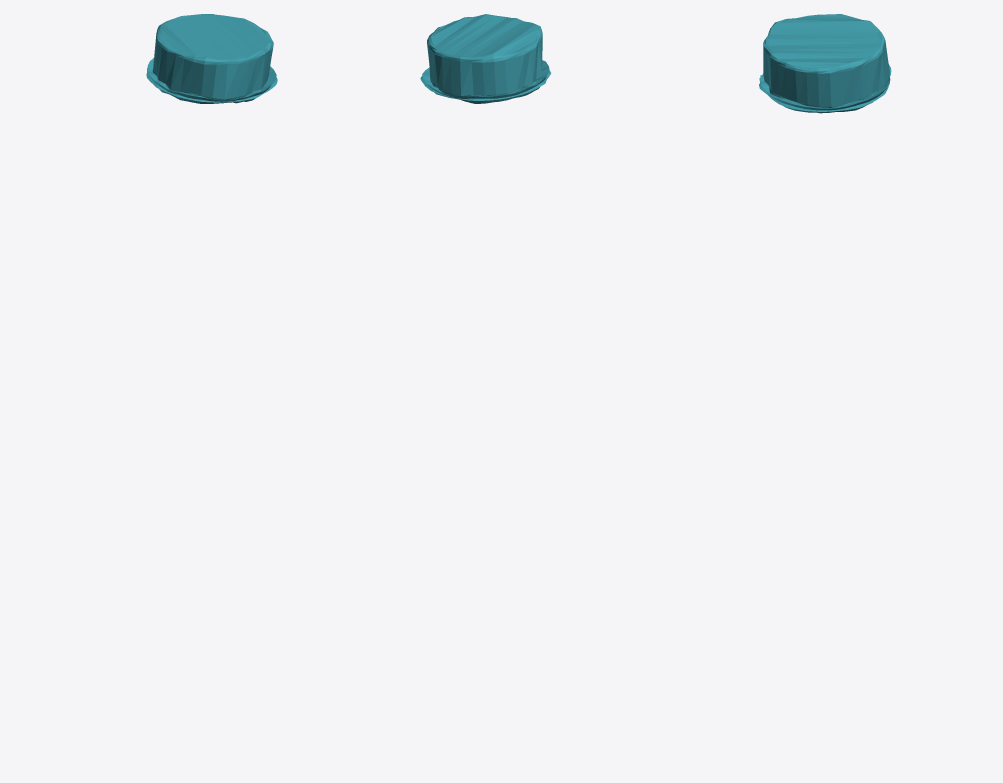
The model's file is crush_low_1.obj.
3 views of the same model, side by side, from view 1: azimuth 30°, elevation 25°; view 2: azimuth 150°, elevation 25°; view 3: azimuth 270°, elevation 25° (orthographic). The views are drawn at different scales.
Parts seen in each view (by area): view 1: model; view 2: model; view 3: model.
Part boxes in pixels (bbox=[...]): model: bbox=[146, 14, 277, 103]; model: bbox=[420, 14, 551, 103]; model: bbox=[759, 14, 891, 113].
Bounding box in the file's own units: 0.088 × 0.2113 × 0.0798.
1 material, 1 textured.
